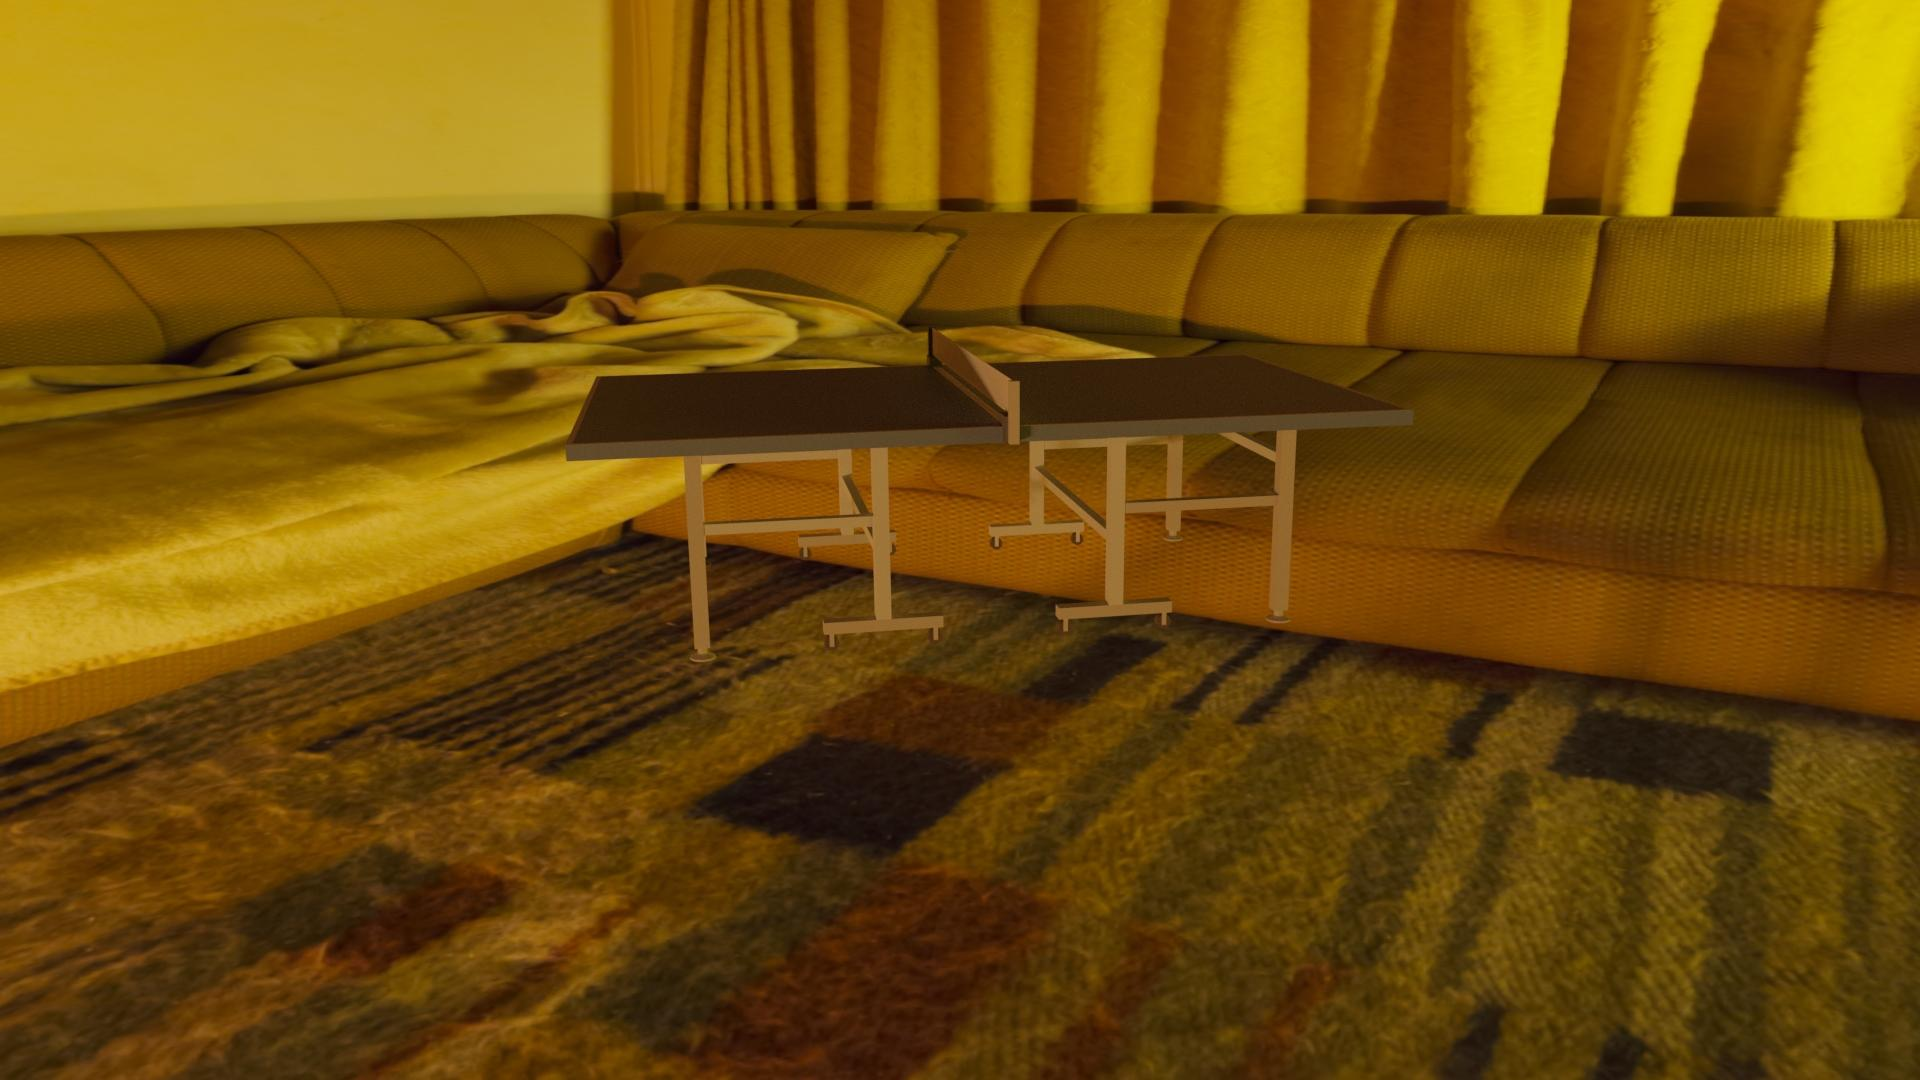table: (572, 355, 1406, 443)
